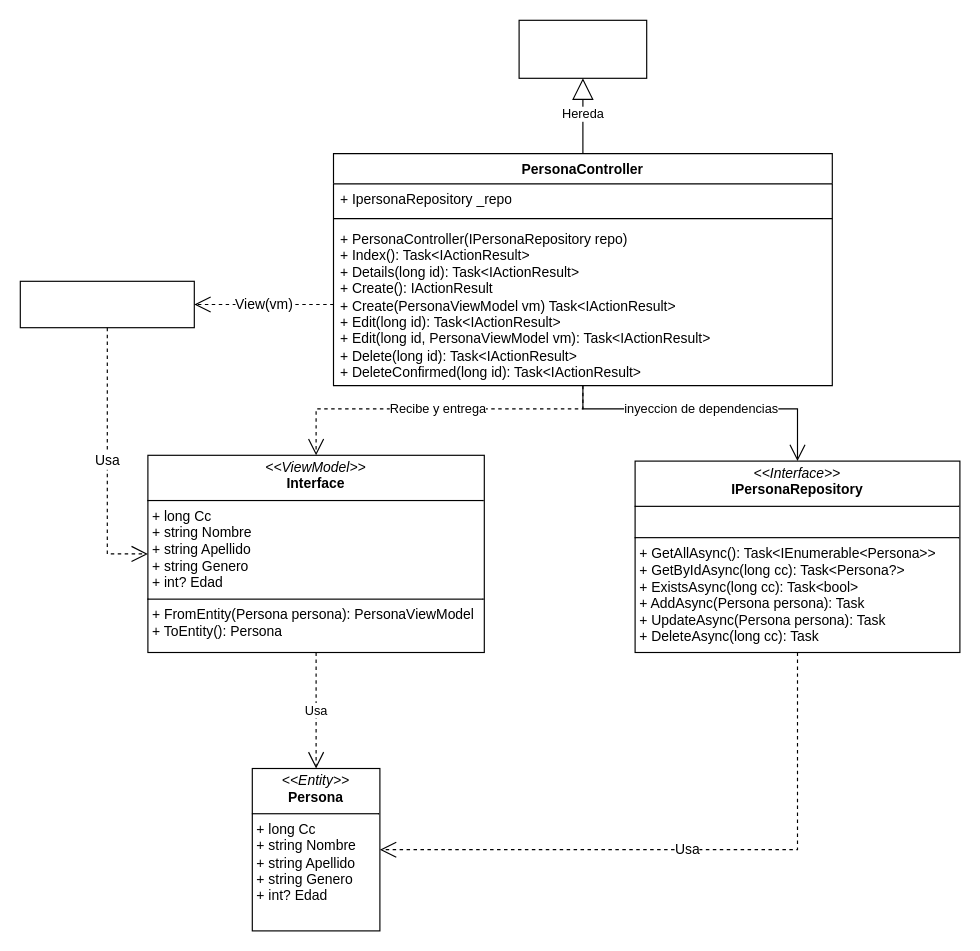
Image size: 980x951. Some labels were removed from this diagram. The shapes that lost their labels are listed below. From the top down, each one's centre as x and y in pixels, then its label:
pixel 582 48: Controller
pixel 106 304: <<Razor Views>> Views/Persona
